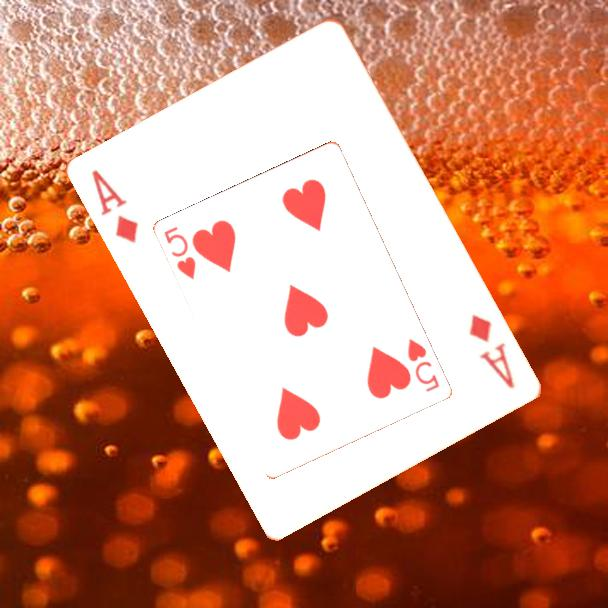d01: (87, 165, 141, 246), (464, 310, 517, 392)
h05: (404, 335, 443, 395), (161, 223, 199, 283)
